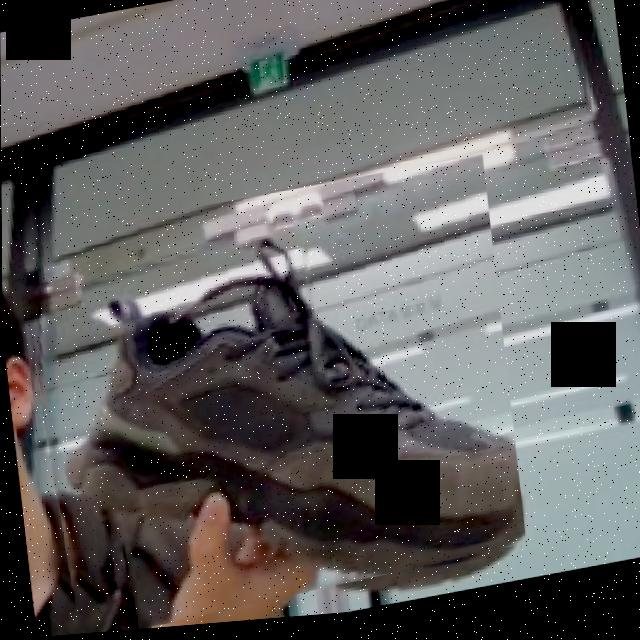shoe: (13, 158, 528, 639)
